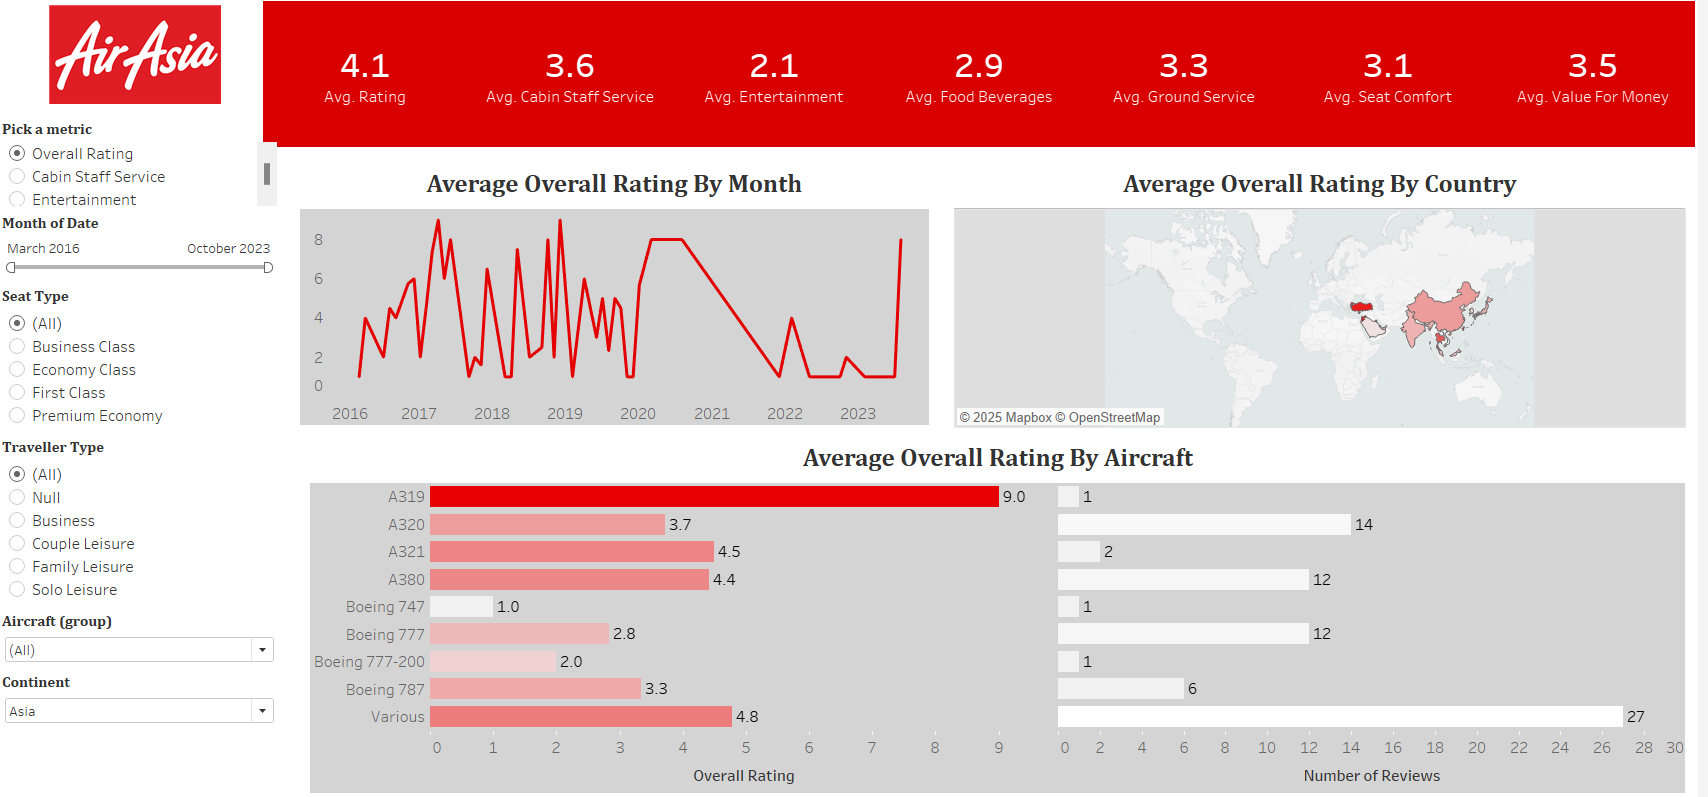

The dashboard page shown, as its layout file describes it:
{"tool":"tableau","page":{"name":"Dashboard 1","canvas":[1700,800],"ordinal":0},"visuals":[{"type":"worksheet","title":"summary","mark":"Automatic","box":[264.9,2.3,1432.2,146.3]},{"type":"parameter","param":"[Parameters].[Parameter 1]","box":[0,116.6,283.3,94]},{"type":"worksheet","title":"Month","mark":"Automatic","rows":["Calculation_467529988195790848"],"cols":["date"],"box":[301.8,164.6,629,261.7]},{"type":"worksheet","title":"Map","mark":"Automatic","box":[956.3,164.6,732.4,264]},{"type":"filter","title":"Map","param":"[federated.1pcnwoo1g4pvph10ksfk00hadk1e].[tmn:date:qk]","box":[0,210.6,283.3,73]},{"type":"filter","title":"Map","param":"[federated.1pcnwoo1g4pvph10ksfk00hadk1e].[none:seat_type:nk]","box":[0,283.6,283.3,151]},{"type":"filter","title":"Map","param":"[federated.1pcnwoo1g4pvph10ksfk00hadk1e].[none:traveller_type:nk]","box":[0,434.6,283.3,174]},{"type":"worksheet","title":"Aircraft","mark":"Automatic","cols":["Calculation_467529988195790848","ba_reviews.csv_693B5AD7C0CC43C9AB5E245D8FB67E5F"],"box":[311.7,438.9,1375.6,355.4]},{"type":"filter","title":"Map","param":"[federated.1pcnwoo1g4pvph10ksfk00hadk1e].[Aircraft (group)]","box":[0,608.6,283.3,61]},{"type":"filter","title":"Map","param":"[federated.1pcnwoo1g4pvph10ksfk00hadk1e].[none:Continent:nk]","box":[0,669.6,283.3,61]}]}

Visuals, with their boxes in screenshot pixels (x1, y1, x2, y2), scaled from the page's 1700x800 canvas onto the 1708x797 screenshot:
"summary" worksheet: (left=266, top=2, right=1705, bottom=148)
parameter: (left=0, top=116, right=285, bottom=210)
"Month" worksheet: (left=303, top=164, right=935, bottom=425)
"Map" worksheet: (left=961, top=164, right=1697, bottom=427)
"Map" filter: (left=0, top=210, right=285, bottom=283)
"Map" filter: (left=0, top=283, right=285, bottom=433)
"Map" filter: (left=0, top=433, right=285, bottom=606)
"Aircraft" worksheet: (left=313, top=437, right=1695, bottom=791)
"Map" filter: (left=0, top=606, right=285, bottom=667)
"Map" filter: (left=0, top=667, right=285, bottom=728)
